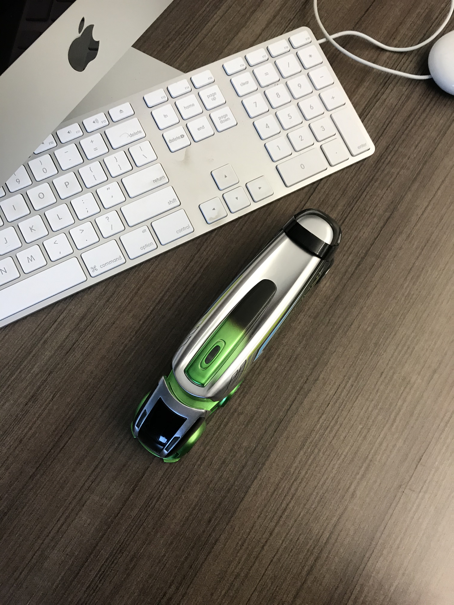Freewheel: (130, 208, 344, 463)
